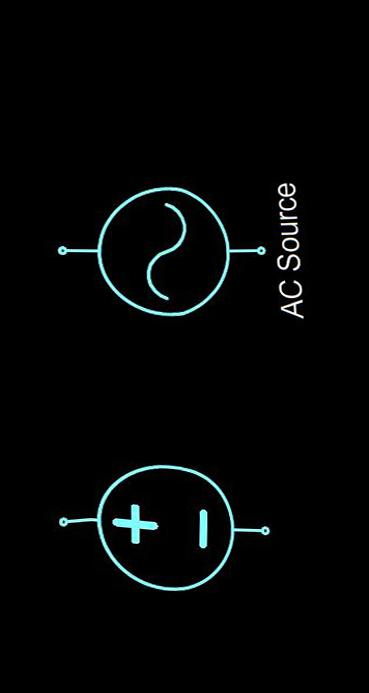Battery: (73, 433, 268, 617)
